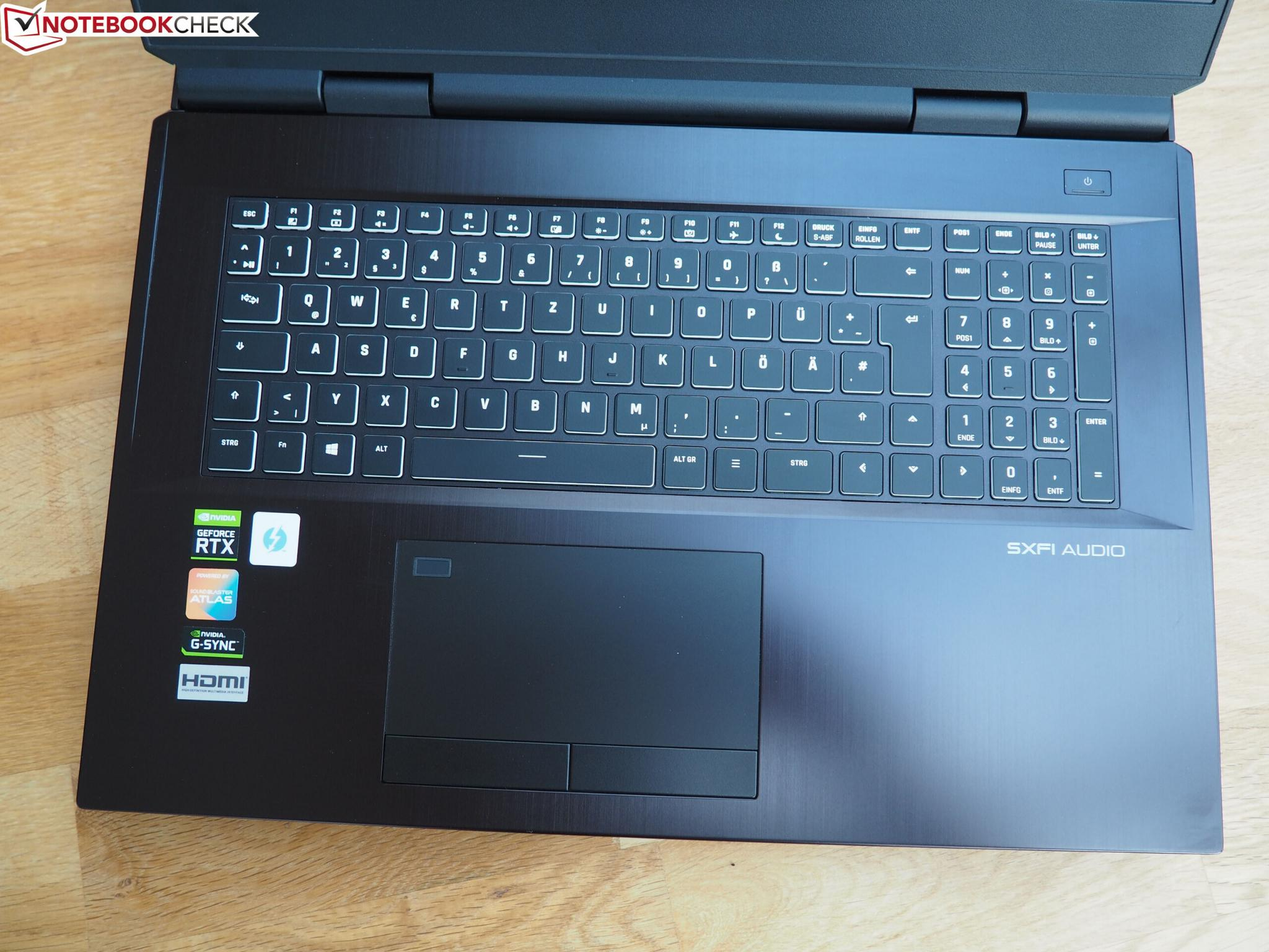0: (703, 245, 747, 288)
1: (266, 231, 308, 273)
2: (314, 233, 358, 275)
3: (362, 234, 405, 276)
4: (410, 236, 453, 278)
5: (459, 237, 502, 280)
6: (508, 240, 551, 281)
7: (556, 240, 600, 283)
8: (605, 242, 648, 285)
9: (654, 243, 698, 286)
a: (292, 329, 336, 372)
accent: (802, 249, 844, 291)
ae: (788, 345, 833, 389)
alt-left: (358, 431, 403, 475)
altgr-right: (660, 442, 706, 487)
b: (511, 385, 556, 430)
c: (411, 382, 455, 426)
caret: (223, 230, 261, 273)
comma: (662, 391, 706, 435)
d: (390, 332, 434, 375)
del: (853, 251, 930, 293)
e: (381, 283, 426, 326)
enter: (876, 299, 930, 393)
f: (441, 333, 483, 376)
g: (489, 334, 532, 377)
h: (539, 335, 583, 380)
hash: (838, 346, 882, 391)
i: (628, 289, 672, 333)
j: (589, 337, 632, 382)
k: (638, 338, 682, 384)
keyboard: (190, 174, 1149, 531)
l: (688, 341, 732, 386)
less: (264, 376, 309, 421)
m: (612, 389, 657, 434)
minus: (762, 395, 807, 438)
n: (561, 387, 606, 431)
o: (677, 292, 722, 335)
oe: (738, 343, 783, 387)
p: (727, 293, 771, 337)
plus: (827, 297, 871, 341)
point: (713, 392, 757, 437)
q: (284, 280, 329, 322)
r: (431, 284, 475, 327)
s: (341, 330, 385, 372)
shift-left: (209, 376, 258, 419)
shift-lock: (214, 327, 288, 369)
shift-right: (813, 397, 882, 441)
space: (409, 435, 654, 484)
ss: (752, 247, 796, 289)
strg-left: (203, 425, 255, 469)
strg-right: (762, 446, 833, 491)
t: (481, 283, 523, 328)
tab: (218, 279, 280, 320)
u: (579, 288, 623, 332)
ue: (776, 294, 820, 339)
v: (461, 384, 506, 427)
w: (333, 281, 377, 324)
x: (362, 380, 405, 423)
y: (313, 379, 357, 422)
z: (530, 288, 573, 330)
